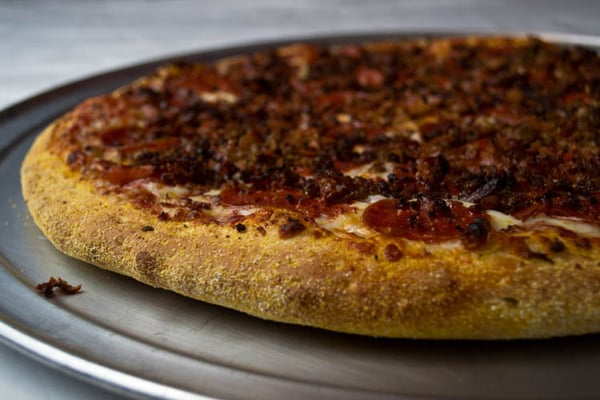sandwich: (17, 35, 599, 340)
